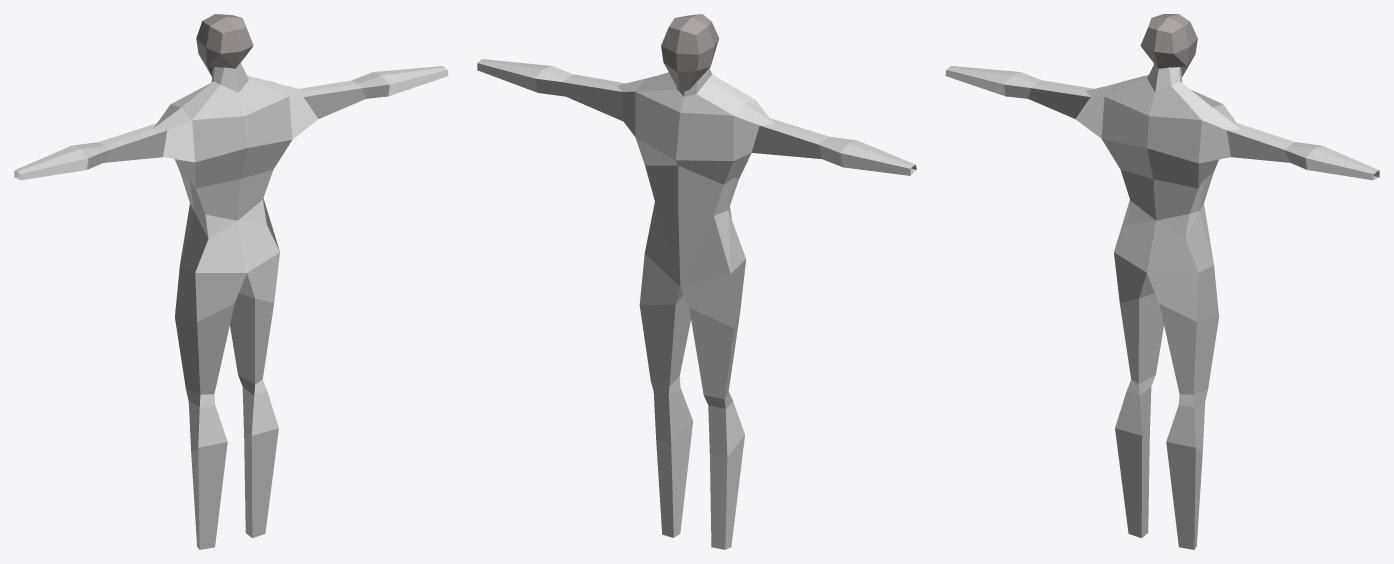
The model's file is body__.fbx.
3 renders of one model, left to right at view 1: azimuth 30°, elevation 25°; view 2: azimuth 150°, elevation 25°; view 3: azimuth 330°, elevation 25°, orthographic.
Parts seen in each view (by area): view 1: torso, right_leg, left_leg, right_arm, crotch, left_arm, head, neck; view 2: torso, right_leg, left_leg, crotch, right_arm, left_arm, head; view 3: torso, left_leg, right_leg, left_arm, crotch, right_arm, head, neck.
Boxes of the visible parts, x1,y1,x2,y2 form: torso: (171, 75, 292, 220); right_leg: (175, 265, 246, 549); left_leg: (230, 252, 279, 538); right_arm: (14, 104, 195, 180); crotch: (180, 198, 279, 272); left_arm: (279, 66, 448, 139); head: (196, 14, 253, 76); neck: (211, 62, 248, 92); torso: (635, 72, 755, 215); right_leg: (680, 259, 746, 549); left_leg: (639, 253, 693, 537); crotch: (645, 201, 745, 286); right_arm: (733, 100, 916, 175); left_arm: (477, 59, 654, 136); head: (661, 14, 719, 92); torso: (1101, 75, 1222, 220); left_leg: (1147, 265, 1218, 549); right_leg: (1114, 252, 1163, 538); left_arm: (1198, 104, 1379, 180); crotch: (1114, 200, 1213, 272); right_arm: (945, 66, 1114, 138); head: (1140, 14, 1197, 76); neck: (1147, 63, 1182, 92).
Size of the model in its own units: 1218 by 1416 by 180.
1 material, 1 textured.
